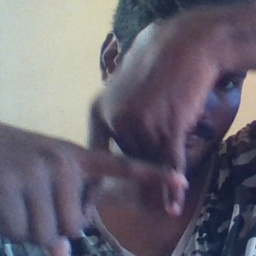H: (70, 105, 195, 223)
